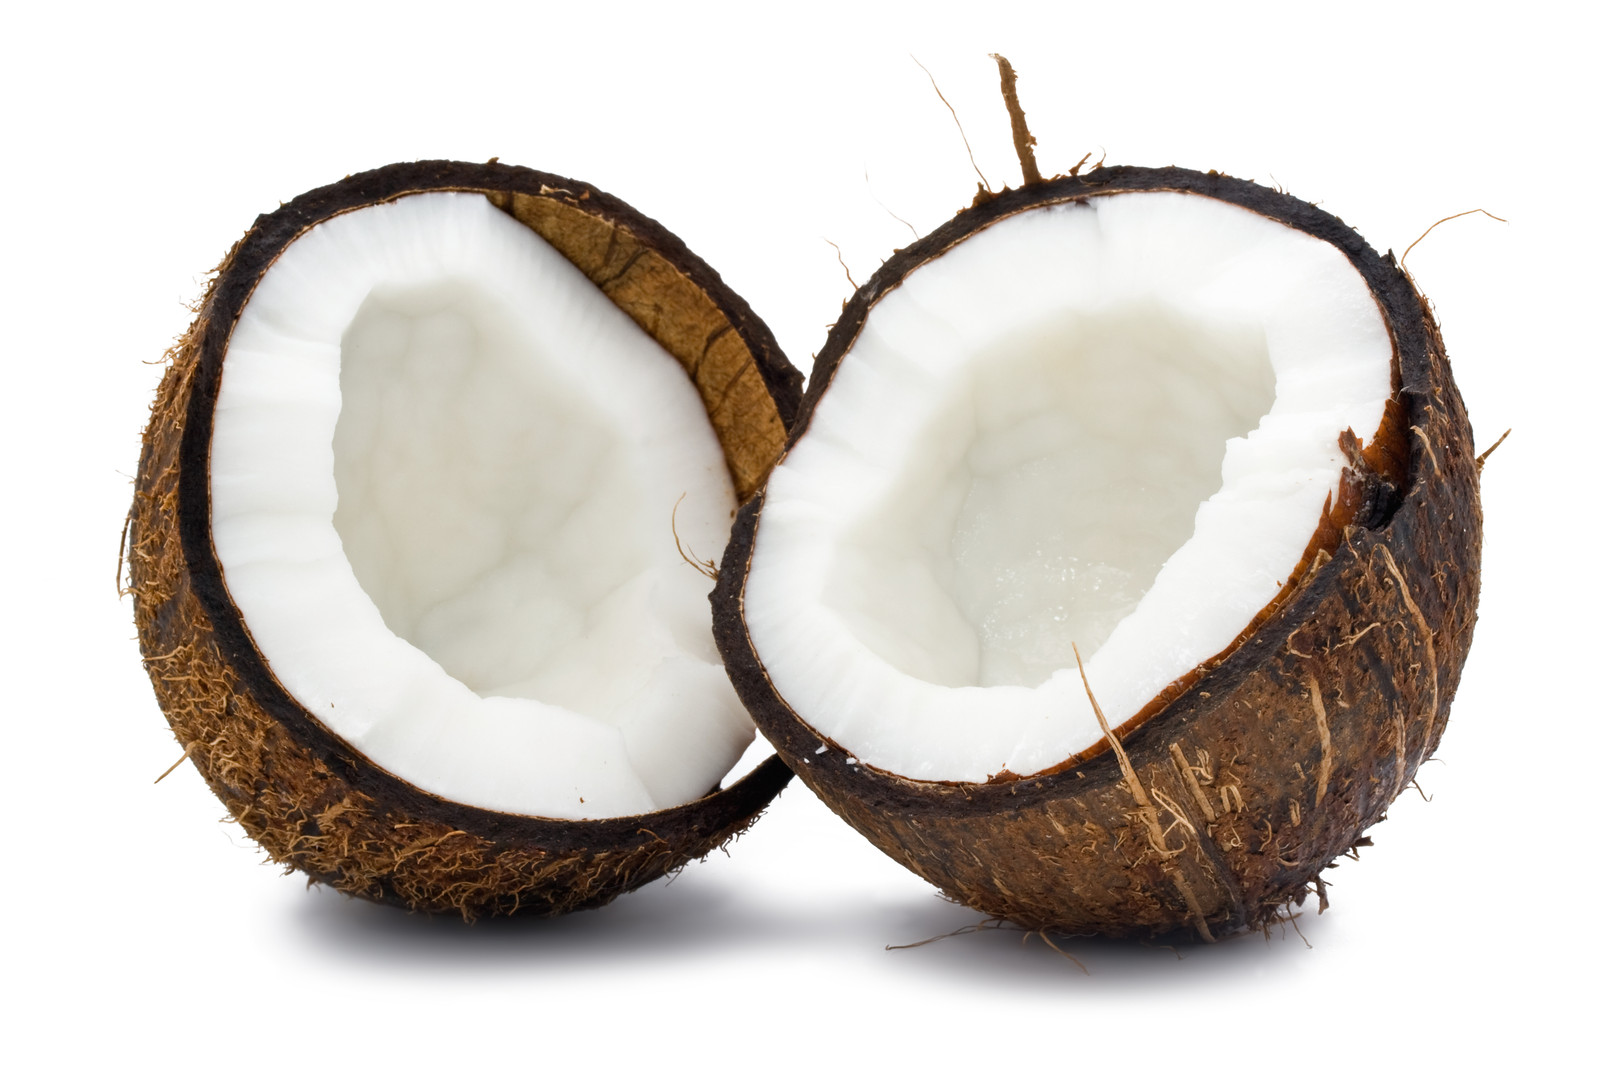coconut: (757, 161, 1493, 975), (126, 152, 790, 963)
